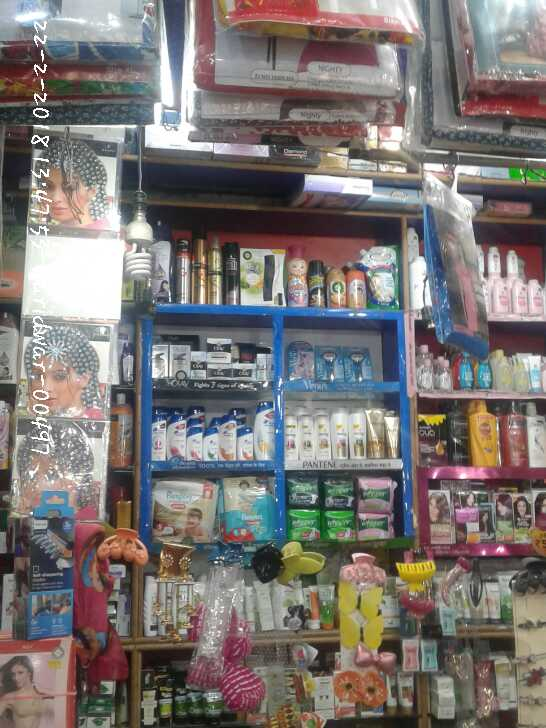venus: (315, 345, 345, 381), (289, 341, 314, 380), (345, 347, 369, 381)
